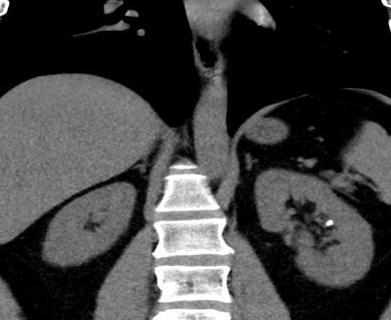Tas_Var: (324, 218, 335, 228)
